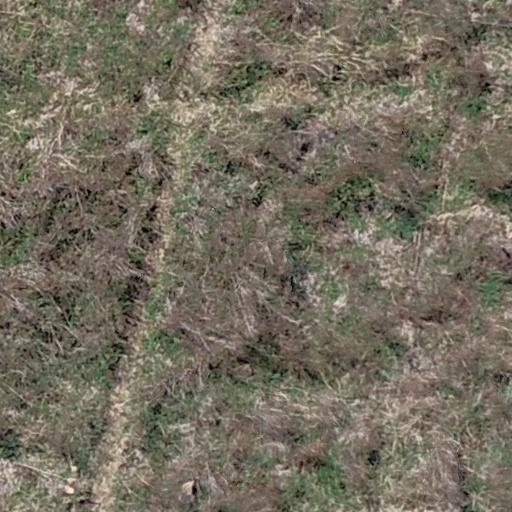stone: (179, 482, 197, 504)
